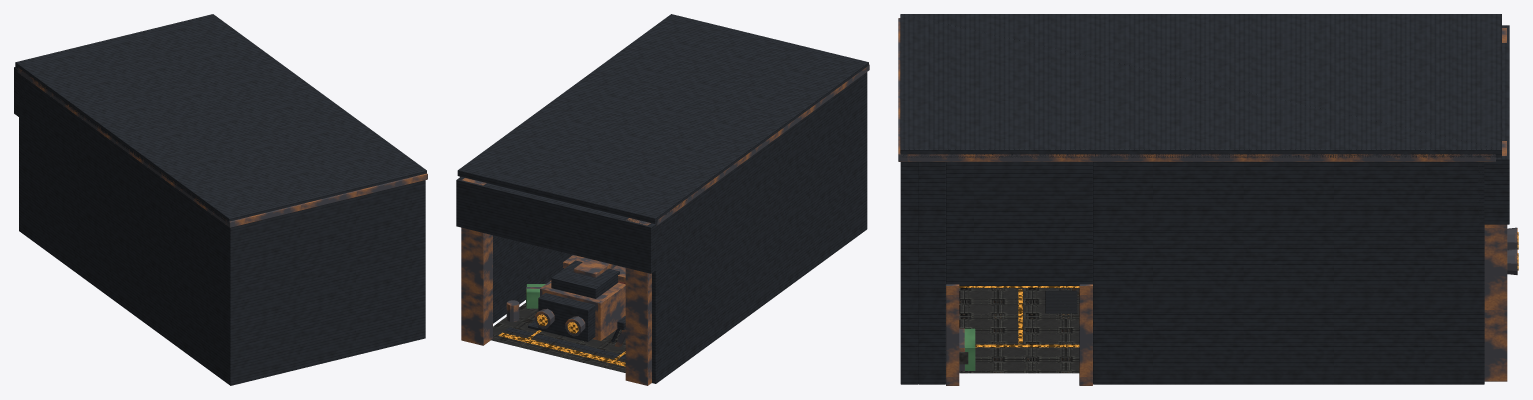
File: Hesperus_DockBay.glb
3 renders of one model, left to right at view 1: azimuth 30°, elevation 25°; view 2: azimuth 150°, elevation 25°; view 3: azimuth 270°, elevation 25°, orthographic. The views are drawn at different scales.
Parts seen in each view (by area): view 1: DK_Roof, DK_Wall_W, DK_Wall_S, DK_Cap_S, DK_Cap_W, DK_NHeader; view 2: DK_Roof, DK_Wall_W, DK_NHeader, DK_NJamb_E, DK_Wall_E_N, DK_NJamb_W, DK_Plate_Floor, SHIP_HullRear, SHIP_EngineBlock, SHIP_RearTop, DK_Cap_W, DK_Wall_S (+3 smaller); view 3: DK_Wall_E_N, DK_Roof, DK_EOpen_Header, DK_Plate_Floor, DK_Wall_E_S, DK_Cap_E, DK_Wall_S, DK_NJamb_E, DK_NHeader, DK_EOpen_JambN, DK_EOpen_JambS, DK_Grate_A (+1 smaller).
Part boxes in pixels (left/top/right/bottom): DK_Roof: left=15, top=14, right=426, bottom=223; DK_Wall_W: left=19, top=73, right=227, bottom=383; DK_Wall_S: left=224, top=180, right=425, bottom=385; DK_Cap_S: left=223, top=173, right=427, bottom=227; DK_Cap_W: left=17, top=67, right=226, bottom=224; DK_NHeader: left=14, top=67, right=24, bottom=121; DK_Roof: left=457, top=14, right=868, bottom=223; DK_Wall_W: left=652, top=74, right=864, bottom=383; DK_NHeader: left=456, top=177, right=662, bottom=273; DK_NJamb_E: left=461, top=178, right=492, bottom=345; DK_Wall_E_N: left=493, top=235, right=572, bottom=323; DK_NJamb_W: left=625, top=218, right=651, bottom=385; DK_Plate_Floor: left=490, top=303, right=625, bottom=372; SHIP_HullRear: left=540, top=280, right=625, bottom=340; SHIP_EngineBlock: left=538, top=293, right=595, bottom=341; SHIP_RearTop: left=551, top=260, right=619, bottom=298; DK_Cap_W: left=656, top=67, right=866, bottom=225; DK_Wall_S: left=863, top=72, right=867, bottom=230; DK_Wall_E_N: left=1093, top=162, right=1484, bottom=384; DK_Roof: left=900, top=14, right=1501, bottom=157; DK_EOpen_Header: left=946, top=162, right=1092, bottom=285; DK_Plate_Floor: left=959, top=288, right=1079, bottom=373; DK_Wall_E_S: left=918, top=162, right=945, bottom=384; DK_Cap_E: left=907, top=154, right=1495, bottom=161; DK_Wall_S: left=900, top=162, right=918, bottom=384; DK_NJamb_E: left=1484, top=141, right=1507, bottom=381; DK_NHeader: left=1478, top=25, right=1509, bottom=224; DK_EOpen_JambN: left=1079, top=284, right=1092, bottom=385; DK_EOpen_JambS: left=946, top=284, right=959, bottom=385; DK_Grate_A: left=1045, top=290, right=1077, bottom=313.
Bounding box in the file's own units: 14.25 × 11.58 × 27.4.
Materials: 13 (13 with a texture image).
